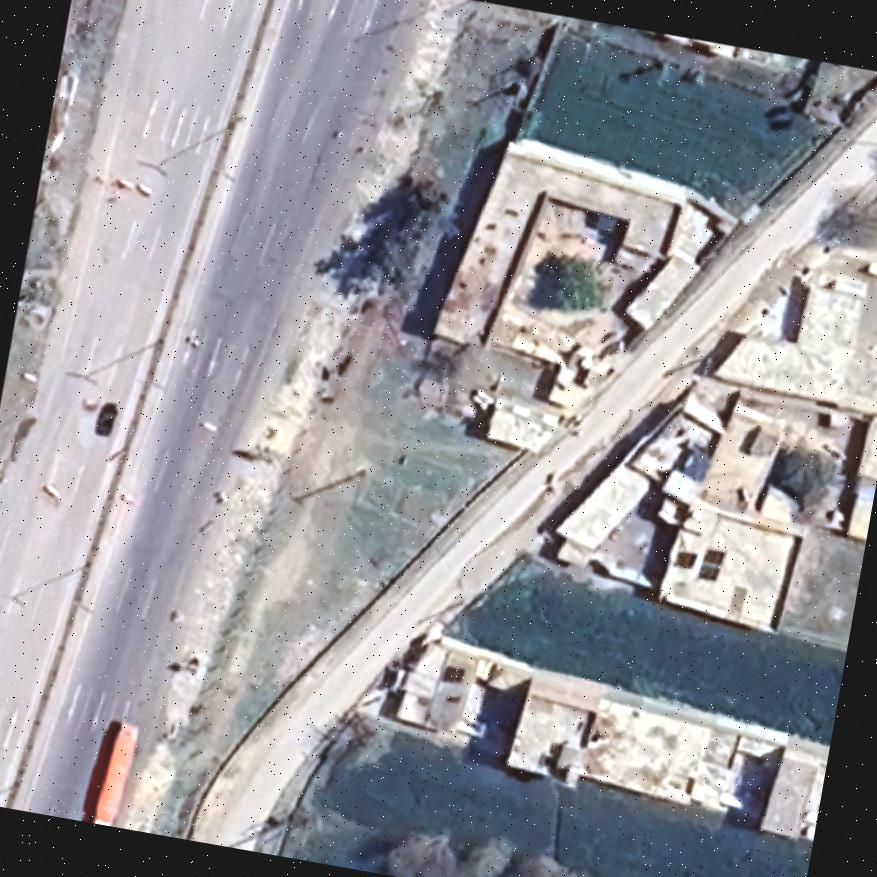Solarpanel: (693, 544, 728, 584), (671, 551, 697, 569)
